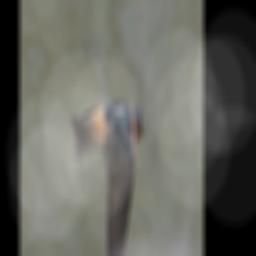Swallow: (57, 54, 148, 256)
